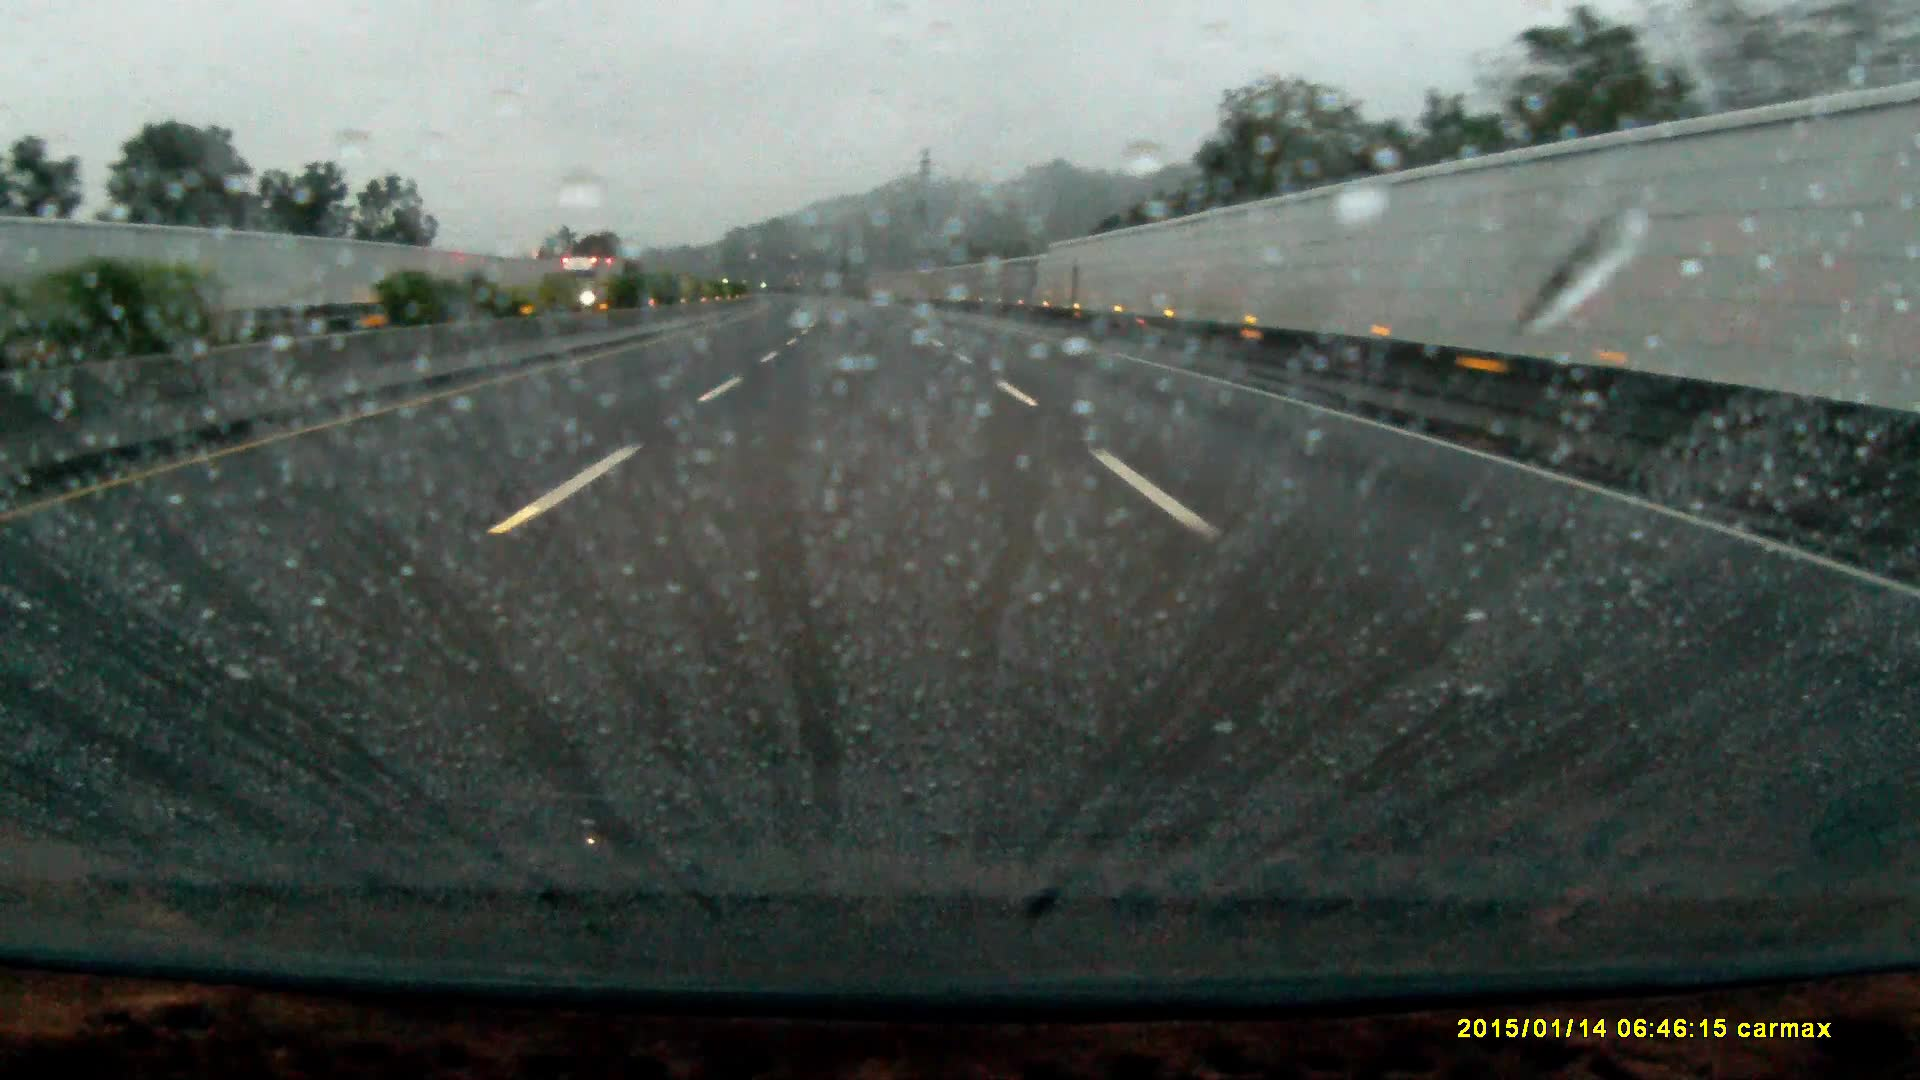vehicle: (560, 256, 624, 310)
